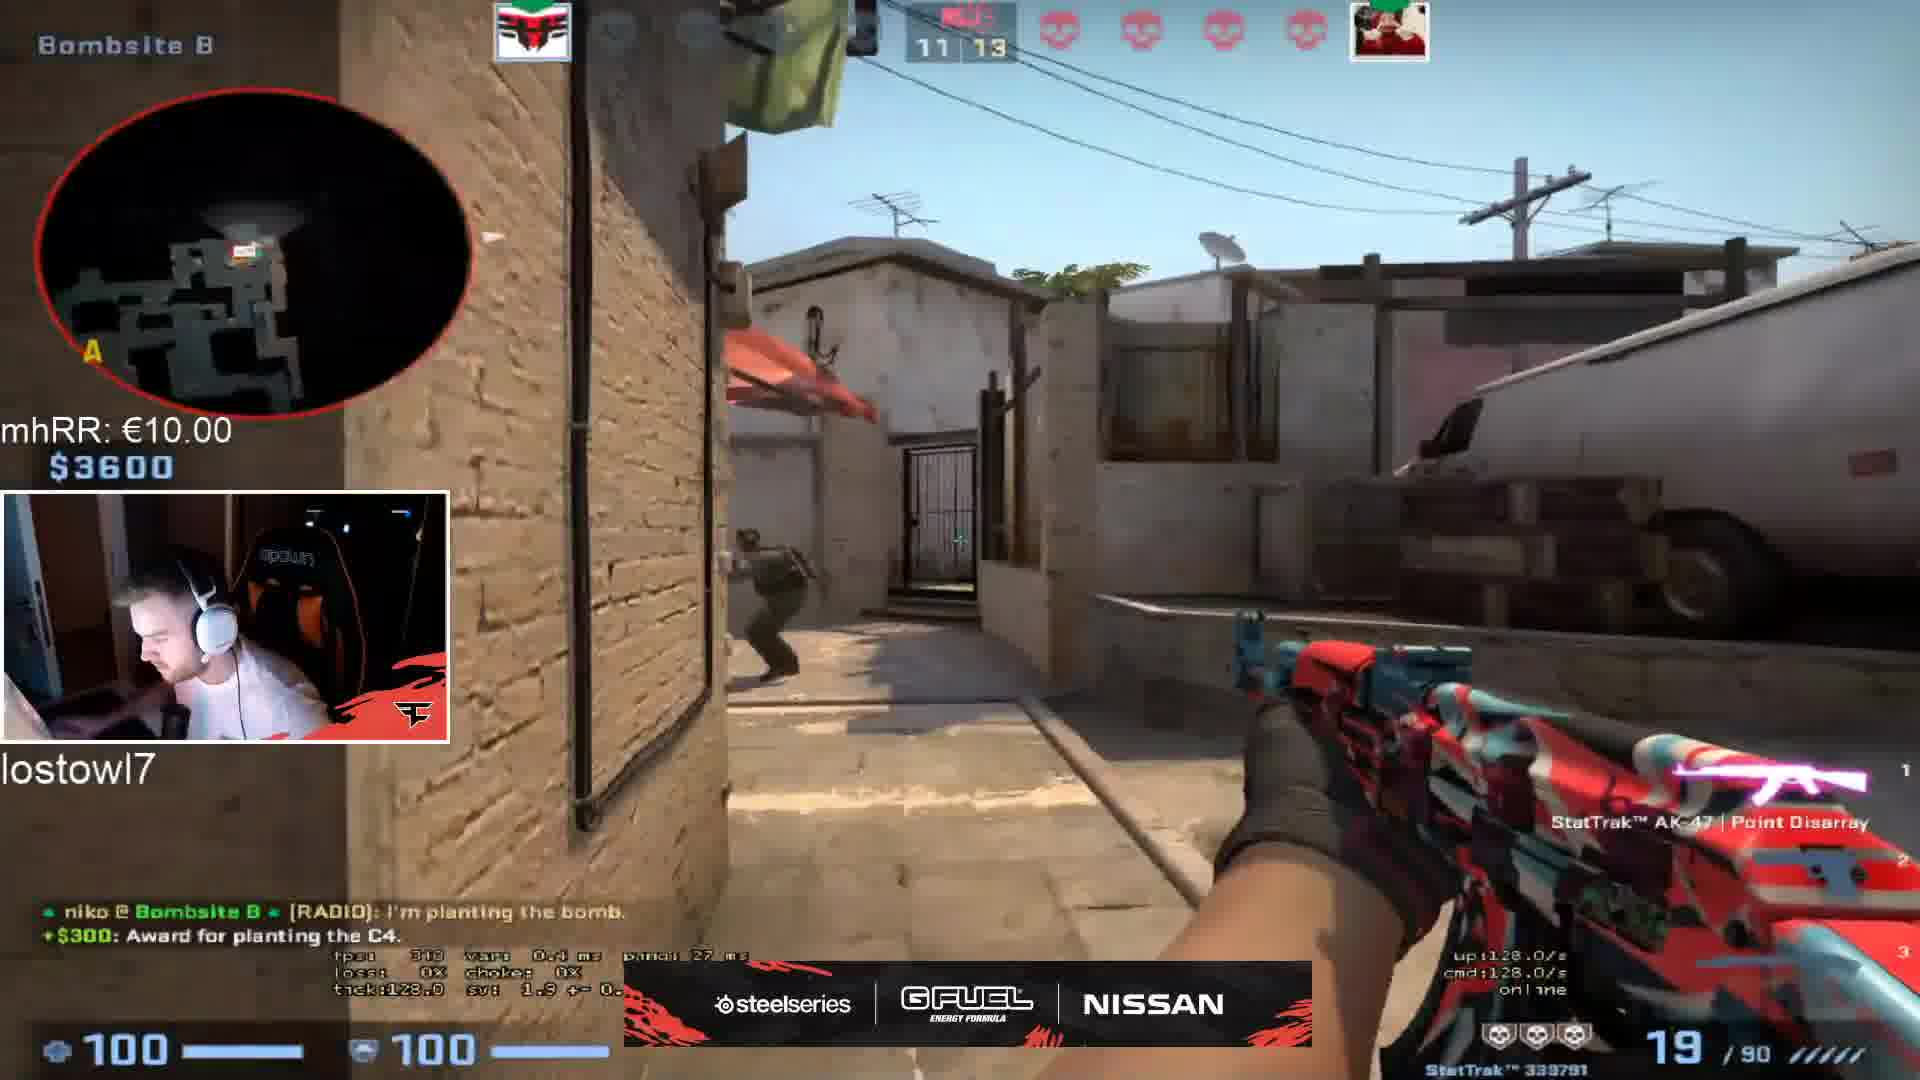enemy: (725, 520, 836, 698)
